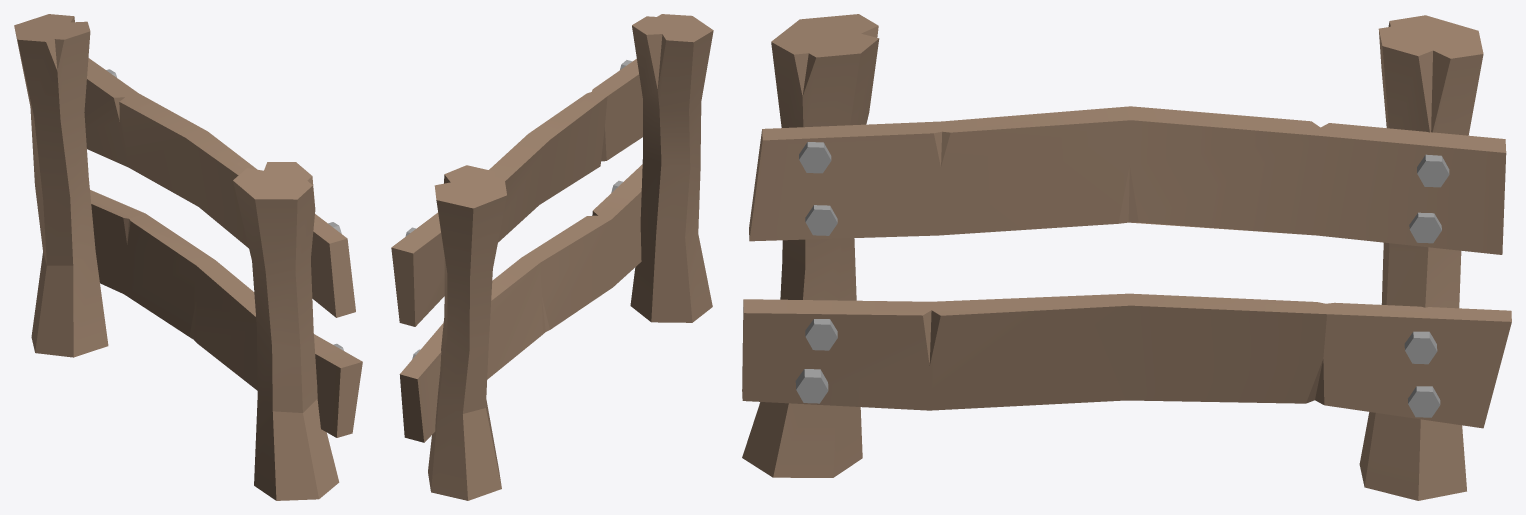
Rendered from fence 1.fbx.
3 renders of one model, left to right at view 1: azimuth 30°, elevation 25°; view 2: azimuth 150°, elevation 25°; view 3: azimuth 270°, elevation 25°, orthographic. The views are drawn at different scales.
Visible parts, largest first — view 1: fence9; view 2: fence9; view 3: fence9.
Part boxes in pixels (x1,y1,x2,y2): fence9: (14,14,362,500); fence9: (391,14,713,500); fence9: (742,14,1511,500).
Size of the model in its own units: 1.39 by 4.07 by 6.34.
